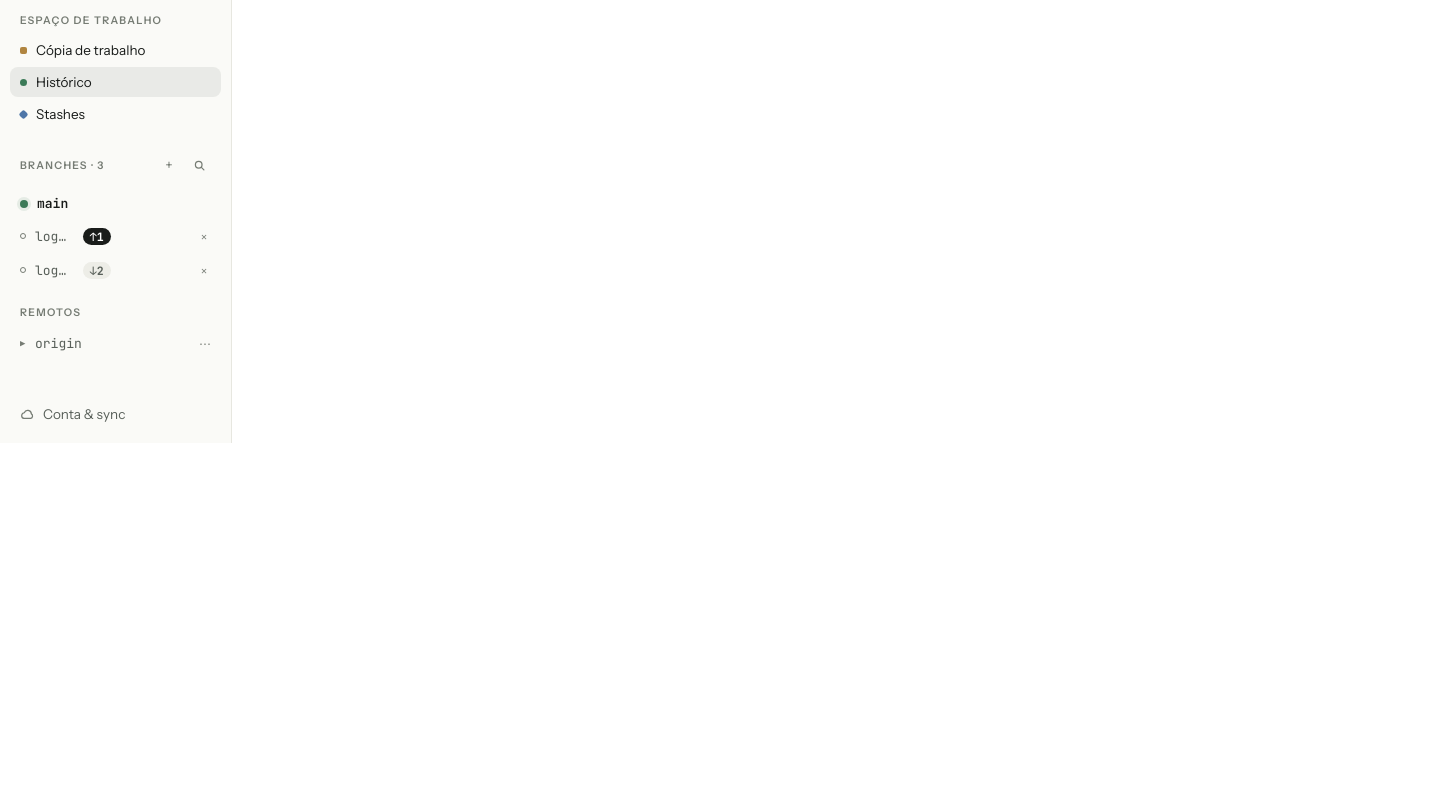
Sidebar: branch rows › double click on a non-current branch opens the switch confirmation
Double-click the button "login ↑1 ✕".
double_click(55, 236)  # box [20,228,211,244]
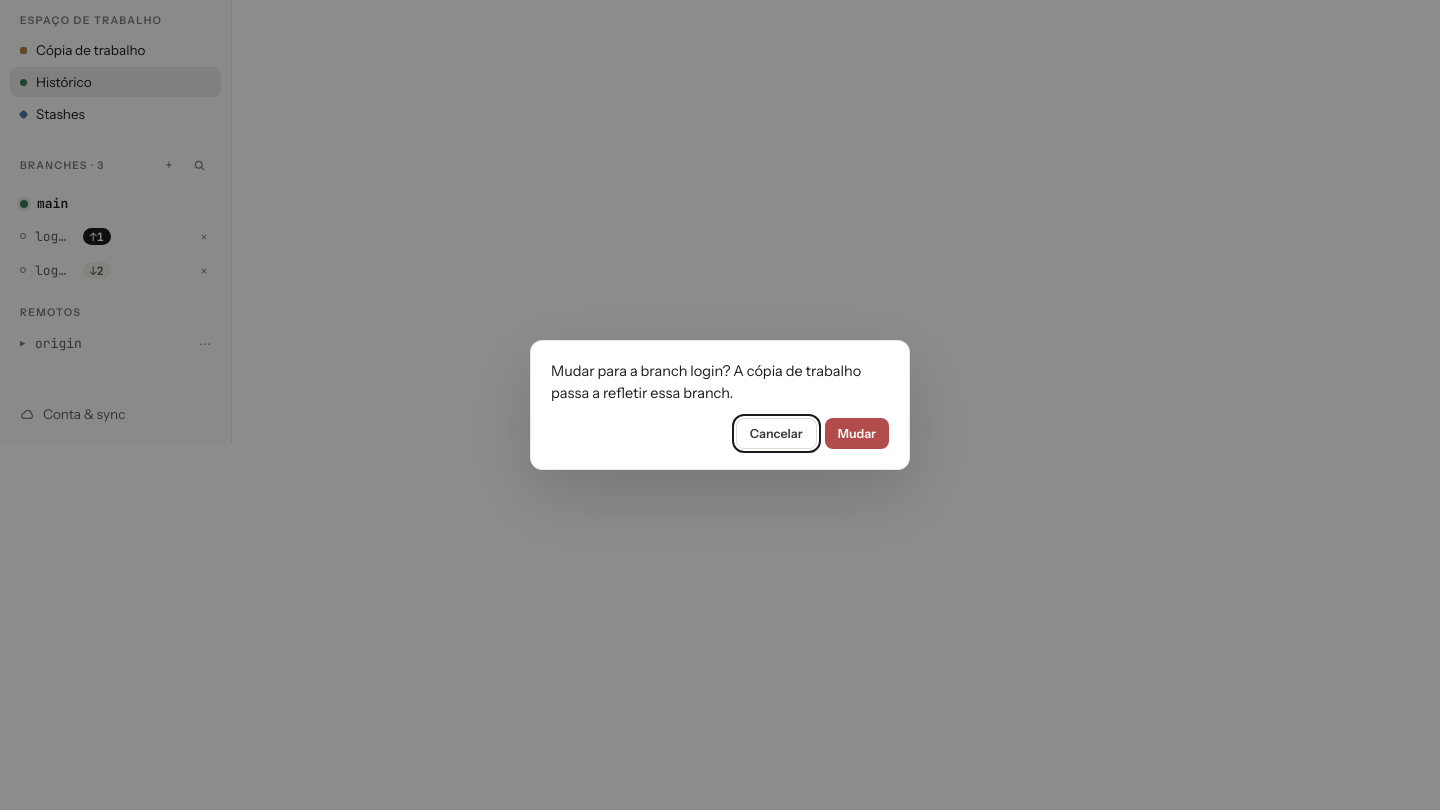
Expected: the text "Mudar para a branch login" is shown, [551,362,861,402]
